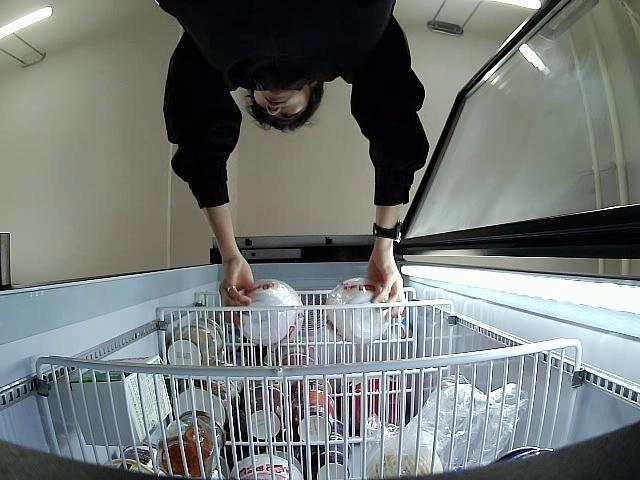09_yukGaeJang: (234, 278, 304, 343), (325, 278, 390, 342)
